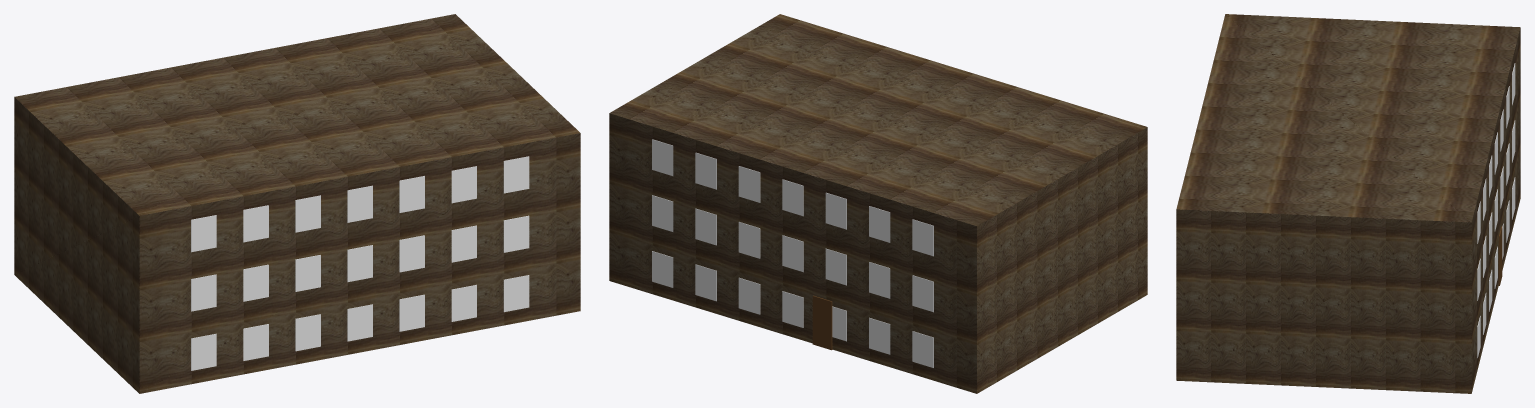
File: bld_mlmpl34x_2rmof21.glb
3 renders of one model, left to right at view 1: azimuth 30°, elevation 25°; view 2: azimuth 150°, elevation 25°; view 3: azimuth 270°, elevation 25°, orthographic. The views are drawn at different scales.
Visible parts, largest first — view 1: building-building-1771097256580, object 26, object 82, object 54, object 46, object 10, object 14, object 30, object 42, object 62, object 66, object 2 (+10 smaller); view 2: building-building-1771097256580, object 48, object 76, object 20, object 72, object 52, object 4, object 24, object 40, object 56, object 60, object 80 (+10 smaller); view 3: building-building-1771097256580.
Boxes of the visible parts, box(x1,y1,x2,y2) form: building-building-1771097256580: box(14, 14, 580, 393); object 26: box(503, 275, 529, 312); object 82: box(503, 156, 529, 193); object 54: box(503, 215, 529, 252); object 46: box(399, 235, 424, 272); object 10: box(295, 314, 320, 351); object 14: box(347, 304, 372, 341); object 30: box(191, 274, 216, 311); object 42: box(347, 245, 372, 282); object 62: box(243, 205, 268, 242); object 66: box(295, 195, 320, 232); object 2: box(191, 333, 216, 370); building-building-1771097256580: box(609, 14, 1147, 393); object 48: box(738, 222, 760, 258); object 76: box(738, 166, 760, 202); object 20: box(738, 277, 760, 314); object 72: box(782, 179, 803, 216); object 52: box(695, 208, 716, 245); object 4: box(912, 331, 933, 367); object 24: box(695, 264, 716, 301); object 40: box(825, 248, 846, 285); object 56: box(652, 195, 673, 231); object 60: box(912, 219, 933, 256); object 80: box(695, 152, 716, 189); building-building-1771097256580: box(1176, 14, 1520, 393).
Size of the model in its own units: 26.96 by 10.36 by 18.8.
5 materials, 1 textured.
